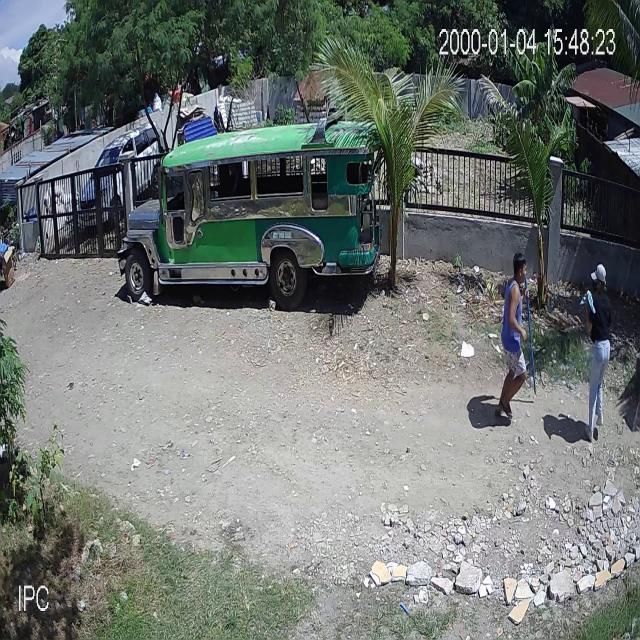running: (494, 253, 536, 427), (581, 262, 609, 440)
